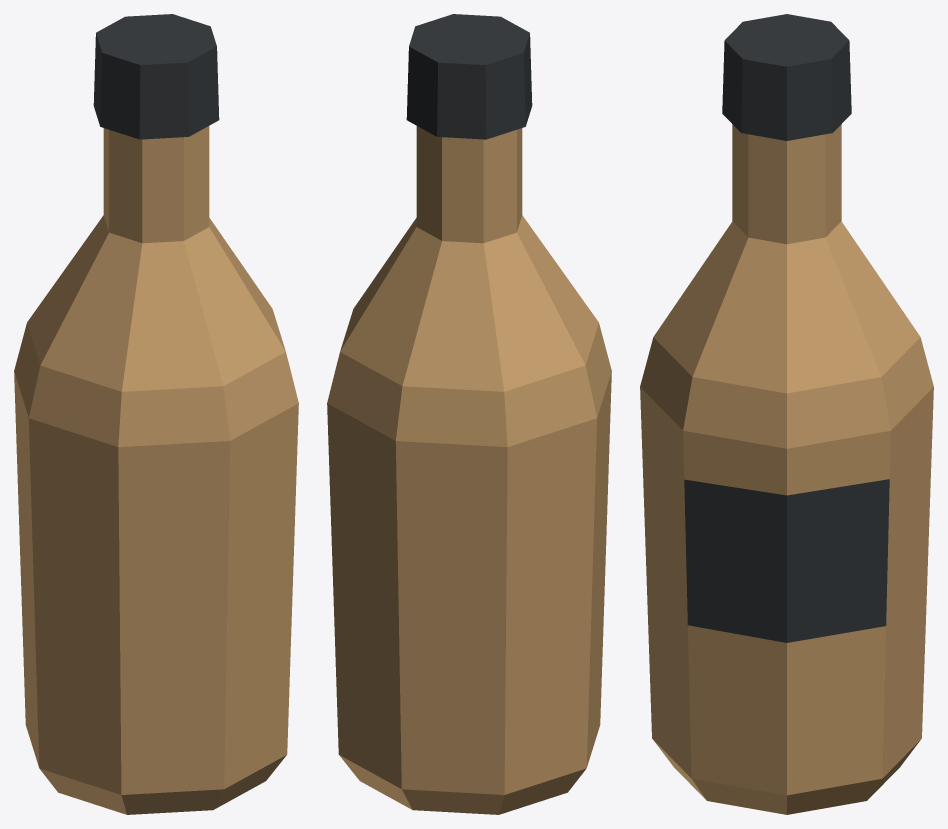
File: bottle.fbx
The picture shows the model from 3 angles, left to right: view 1: azimuth 30°, elevation 25°; view 2: azimuth 150°, elevation 25°; view 3: azimuth 270°, elevation 25°; orthographic projection.
Visible parts, largest first — view 1: bottle; view 2: bottle; view 3: bottle.
Boxes of the visible parts, x1,y1,x2,y2 form: bottle: (14,14,298,814); bottle: (327,14,611,814); bottle: (640,14,933,814).
Size of the model in its own units: 29.76 by 81.2 by 29.76.
